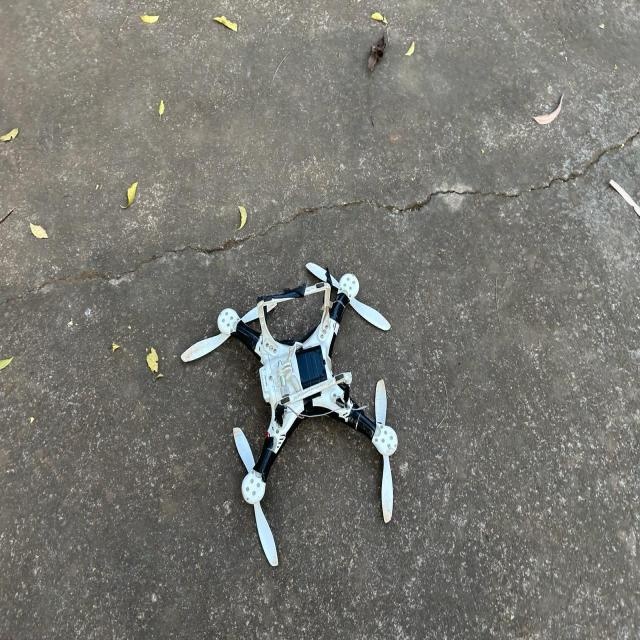drone: (53, 208, 533, 609)
